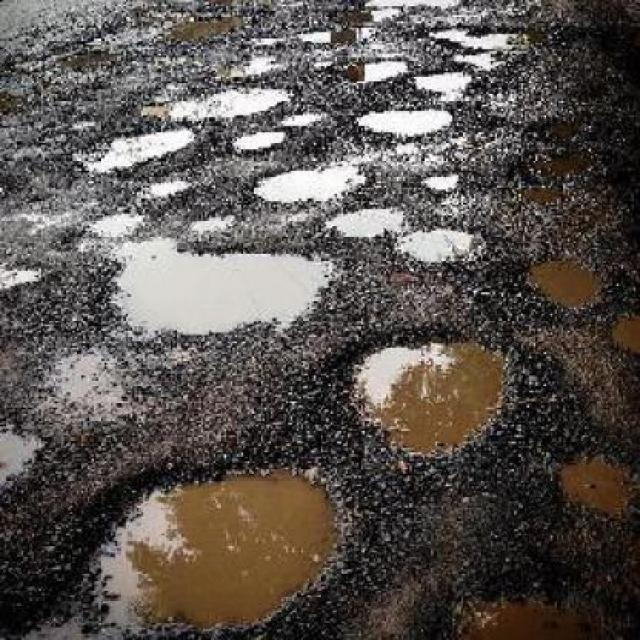pothole: (68, 457, 347, 634), (94, 240, 343, 345), (343, 330, 512, 456), (408, 562, 619, 639), (539, 434, 639, 522), (139, 78, 297, 121), (517, 248, 606, 312), (77, 125, 201, 170), (423, 22, 539, 67), (248, 159, 370, 200), (391, 225, 490, 268), (0, 420, 53, 488), (353, 102, 451, 136), (320, 203, 408, 237), (332, 55, 418, 81), (412, 68, 476, 92), (606, 309, 639, 348), (231, 128, 284, 152), (420, 168, 461, 192)
